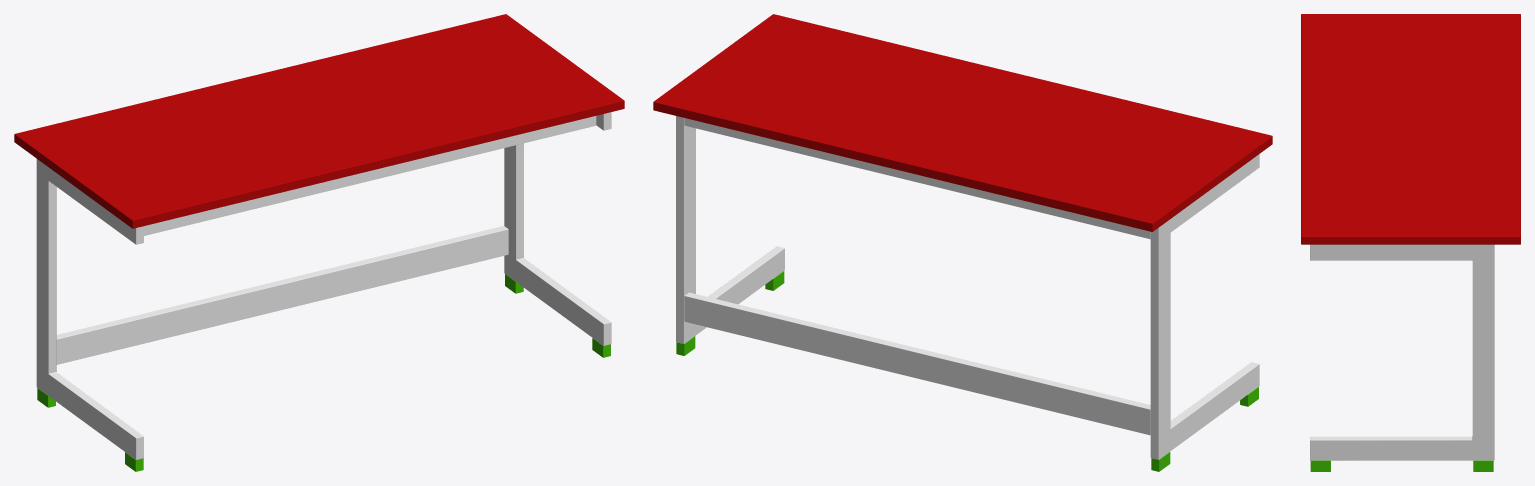
File: Desk02.fbx
The picture shows the model from 3 angles, left to right: view 1: azimuth 30°, elevation 25°; view 2: azimuth 150°, elevation 25°; view 3: azimuth 270°, elevation 25°; orthographic projection. The views are drawn at different scales.
Parts seen in each view (by area): view 1: Desk02; view 2: Desk02; view 3: Desk02.
Part boxes in pixels (bbox=[...]): Desk02: bbox=[14, 14, 624, 471]; Desk02: bbox=[653, 14, 1272, 471]; Desk02: bbox=[1301, 14, 1520, 471].
Size of the model in its own units: 150 by 62.5 by 75.
